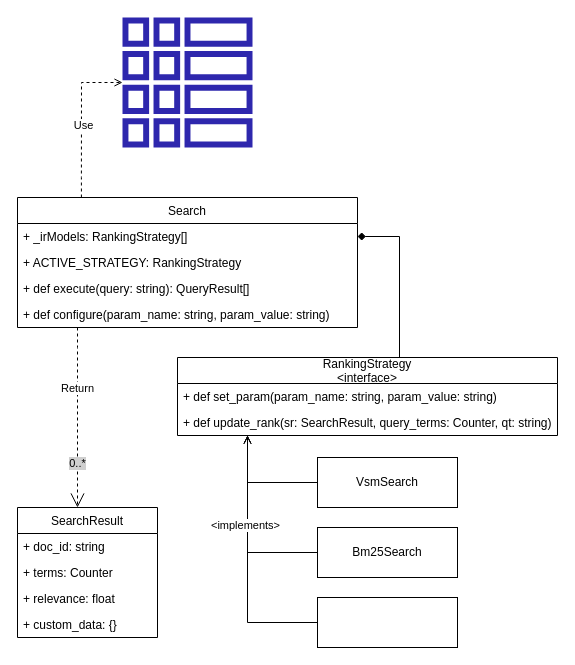
Some shapes in this 575 by 665 pixel diagram are drawn without their labels. Here are the shapes that lost their labels. From the top down, the centre of each, then its label:
(x=187, y=82): Index
(x=387, y=622): LmJmsSearch
